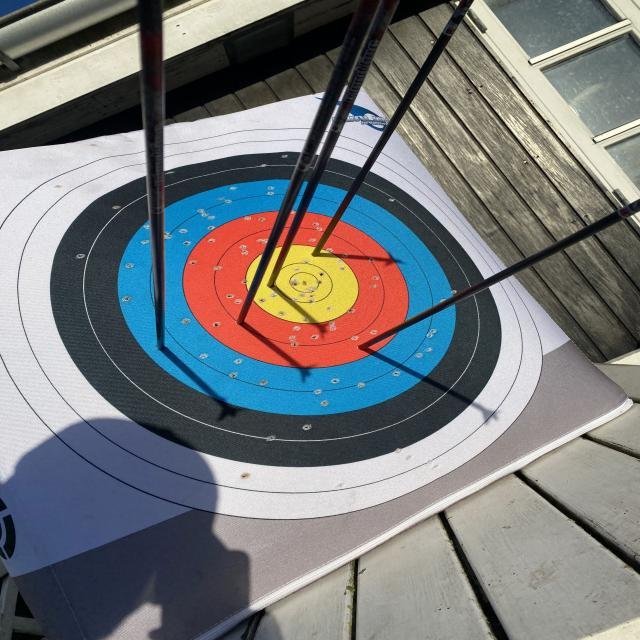Arrow_Blue: (138, 328, 190, 365)
Arrow_Red: (330, 332, 393, 366), (221, 299, 271, 338)
Arrow_Yellow: (247, 262, 311, 300), (298, 231, 352, 275)
